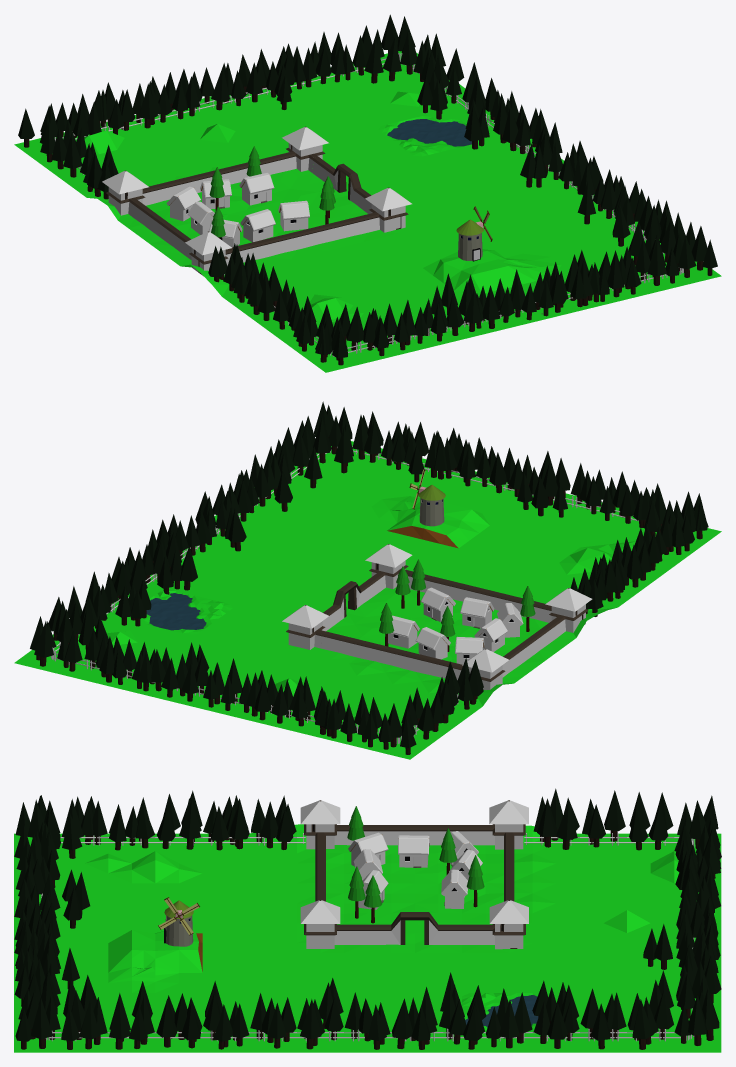
File: oldplain.obj
3 views of the same model, one above another, from view 1: azimuth 30°, elevation 25°; view 2: azimuth 150°, elevation 25°; view 3: azimuth 270°, elevation 25° (orthographic). The views are drawn at different scales.
Parts seen in each view (by area): view 1: FullSquare, Lake_ripples, CornerFort.001, CornerFort.003, CornerFort.002, CornerFort.004, Cube.051, Cube.053, Cube.054, WindmillBody, Cube.048, Cube.017 (+6 smaller); view 2: FullSquare, Lake_ripples, CornerFort.002, CornerFort.004, CornerFort.001, CornerFort.003, WindmillBody, Cube.051, Cube.049, Cube.054, Cube.053, Cube.002 (+7 smaller); view 3: FullSquare, CornerFort.001, CornerFort.002, CornerFort.003, CornerFort.004, Cube.038, Cube.050, Cube.035, Cube.033, WindmillBody, Cube.053, Cube.052 (+49 smaller).
Part boxes in pixels (box(x1,y1,x2,y2)): FullSquare: box(14, 51, 721, 372); Lake_ripples: box(387, 119, 471, 146); CornerFort.001: box(365, 187, 411, 232); CornerFort.003: box(102, 170, 148, 215); CornerFort.002: box(282, 126, 328, 171); CornerFort.004: box(185, 231, 231, 276); Cube.051: box(240, 209, 275, 242); Cube.053: box(239, 172, 274, 205); Cube.054: box(278, 200, 309, 231); WindmillBody: box(456, 219, 483, 260); Cube.048: box(166, 186, 200, 221); Cube.017: box(334, 214, 372, 239); FullSquare: box(14, 441, 721, 759); Lake_ripples: box(146, 593, 206, 630); CornerFort.002: box(282, 605, 328, 649); CornerFort.004: box(545, 588, 592, 632); CornerFort.001: box(365, 544, 412, 589); CornerFort.003: box(462, 649, 508, 690); WindmillBody: box(418, 485, 445, 526); Cube.051: box(460, 597, 494, 628); Cube.049: box(415, 627, 450, 659); Cube.054: box(420, 587, 455, 622); Cube.053: box(388, 615, 419, 648); Cube.002: box(393, 649, 432, 674); FullSquare: box(14, 824, 721, 1052); CornerFort.001: box(300, 900, 340, 948); CornerFort.002: box(489, 900, 528, 949); CornerFort.003: box(489, 800, 528, 849); CornerFort.004: box(300, 800, 340, 849); Cube.038: box(391, 912, 438, 944); Cube.050: box(398, 835, 429, 867); Cube.035: box(438, 924, 485, 944); Cube.033: box(344, 924, 391, 944); WindmillBody: box(164, 900, 193, 946); Cube.053: box(441, 869, 467, 908); Cube.052: box(348, 832, 388, 866).
Size of the model in its own units: 110 by 18.31 by 150.
